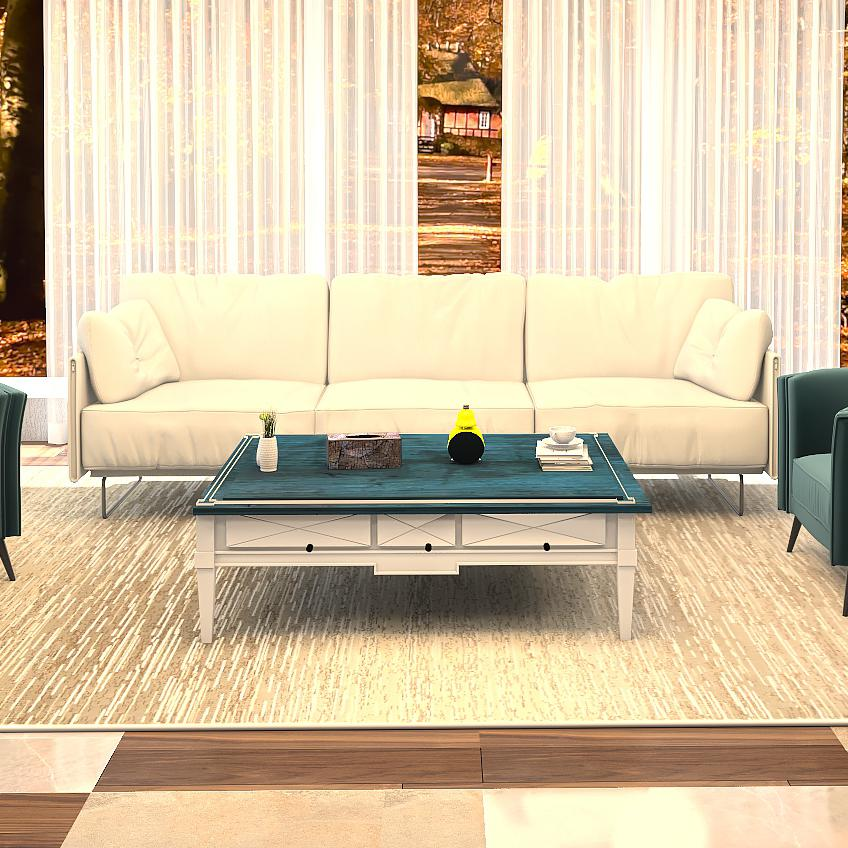table: (189, 432, 650, 642)
